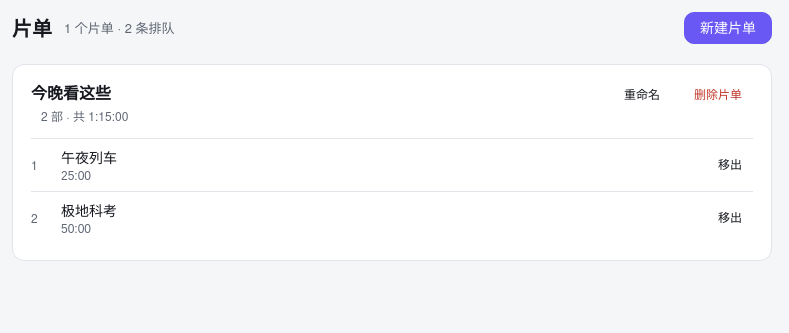
it: Watchlists view › deletes only the queue, and says so before asking
Click the button "删除片单": (718, 95) [683, 83, 753, 107]
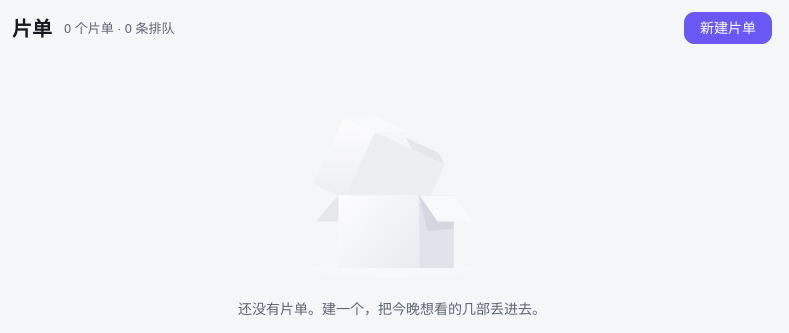
Check: no elements with class "list-panel" are shown
